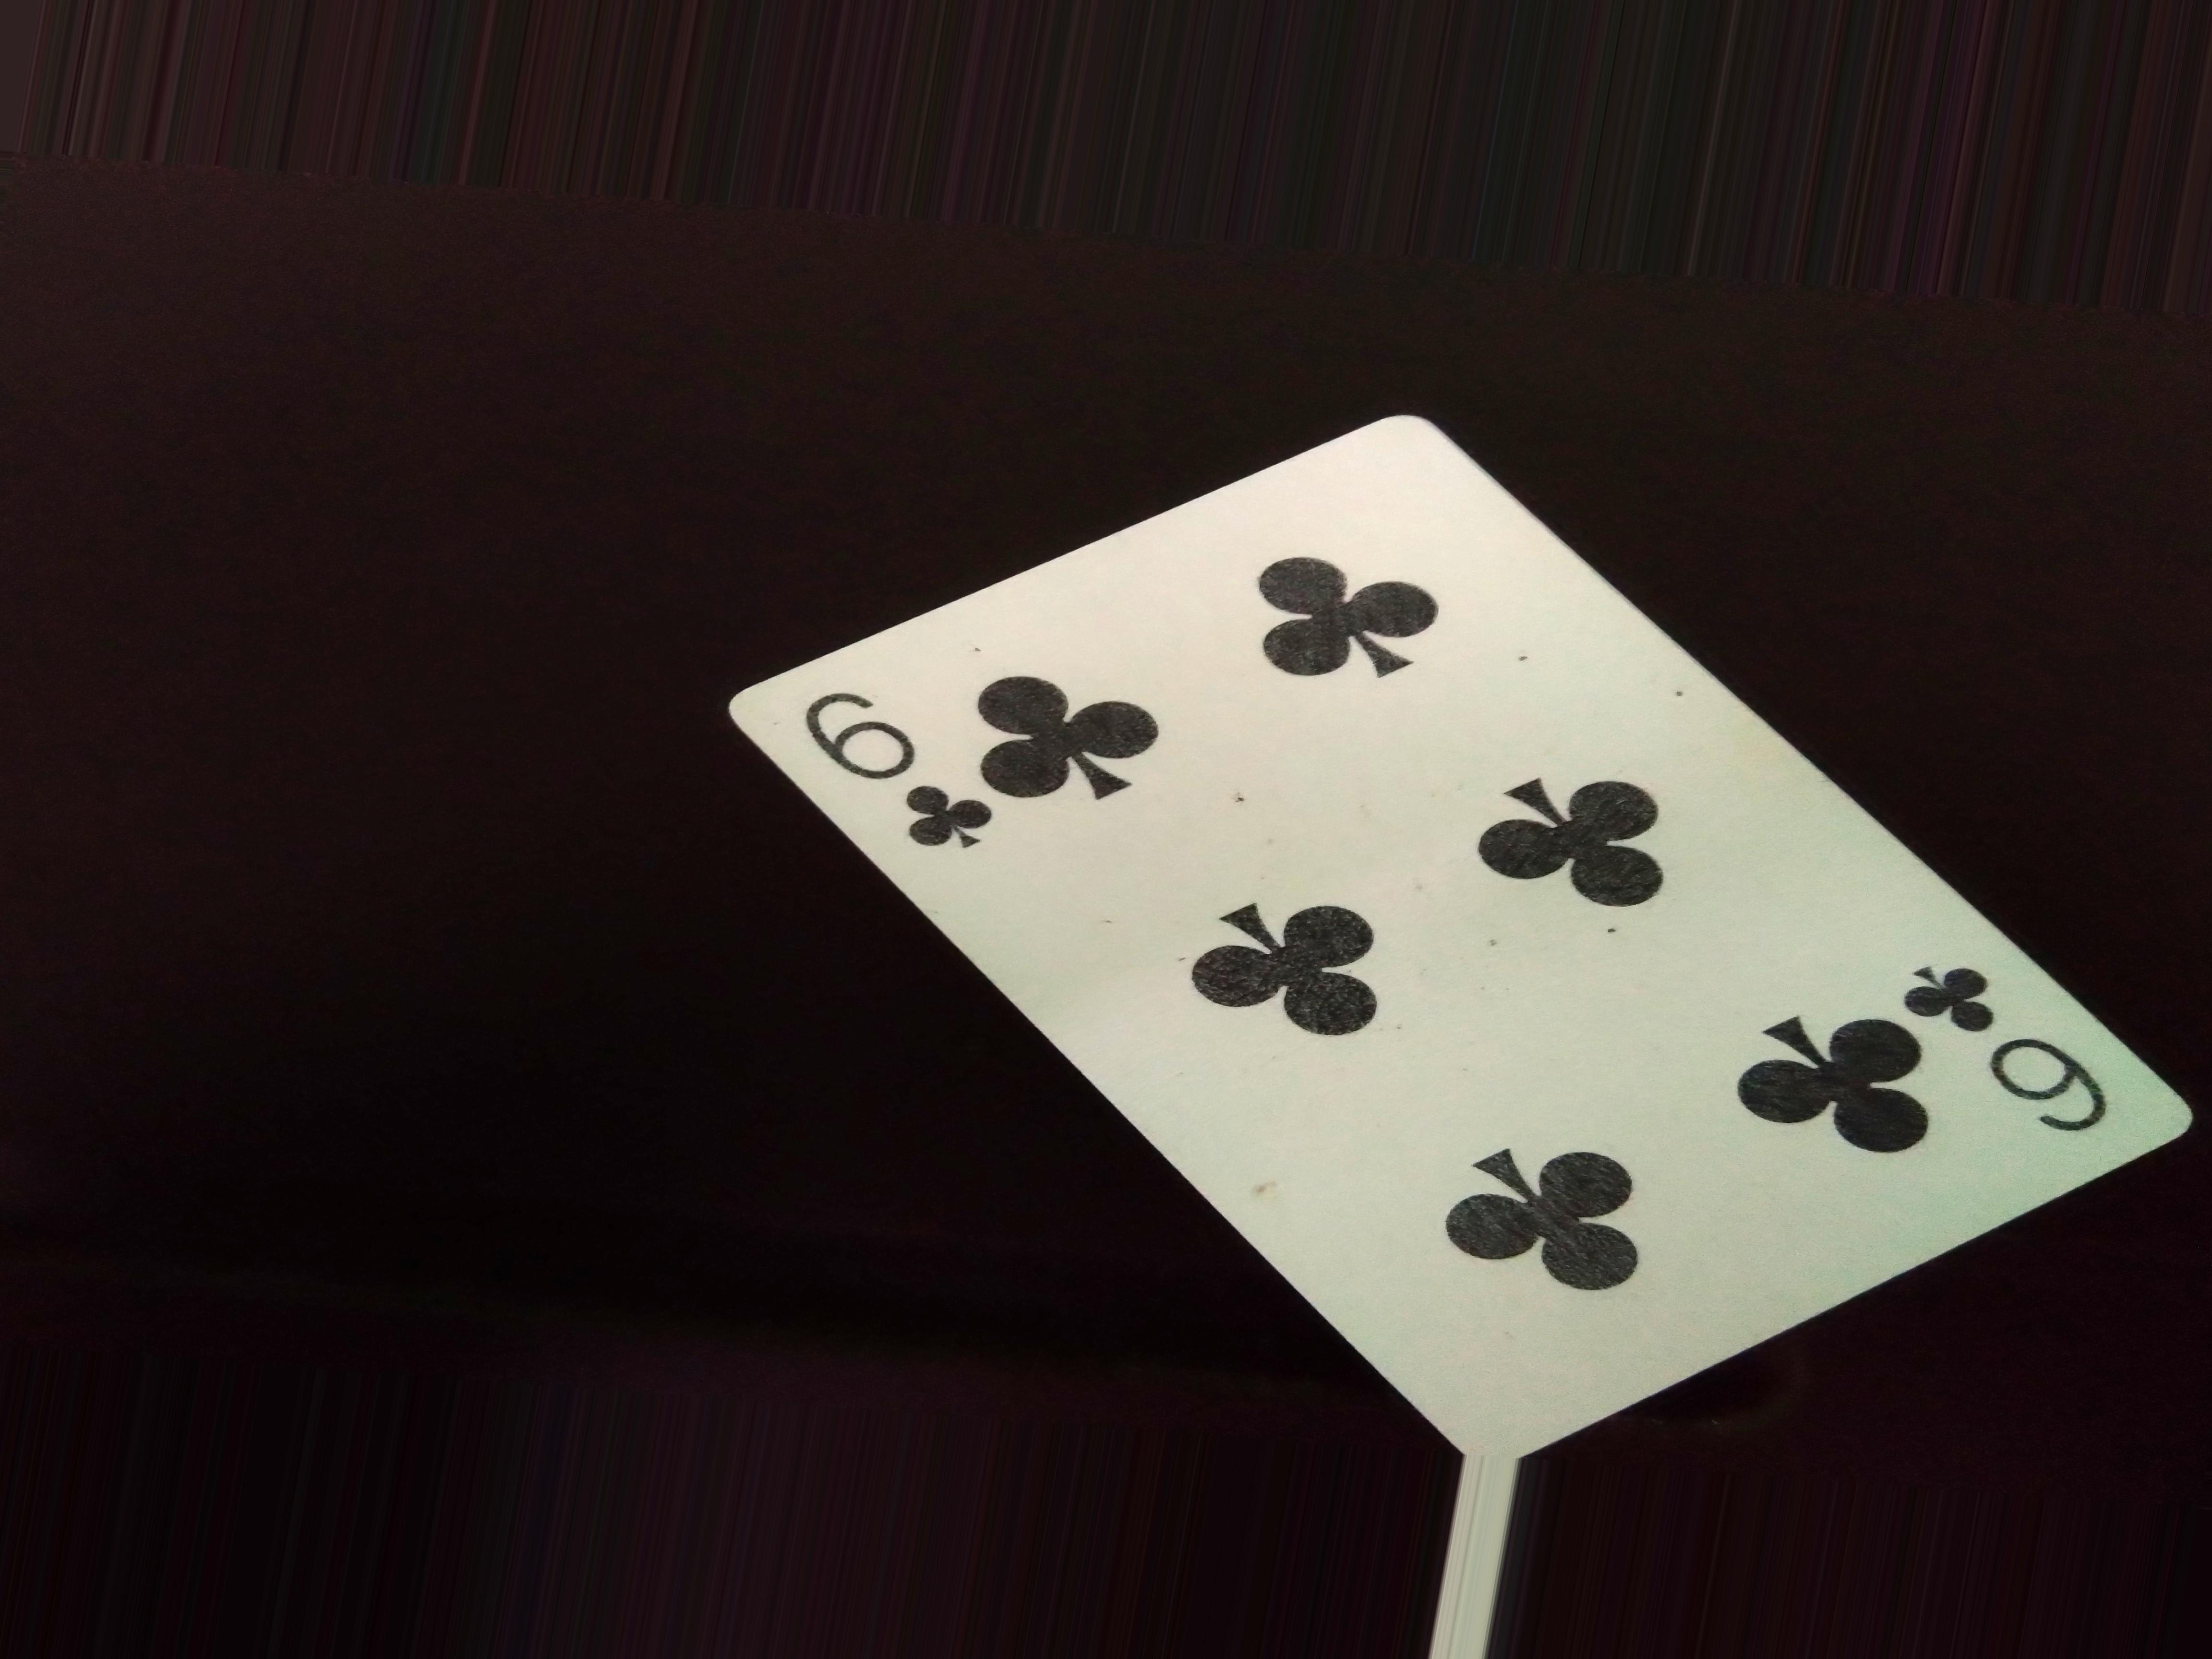6C: (799, 680, 993, 875)
